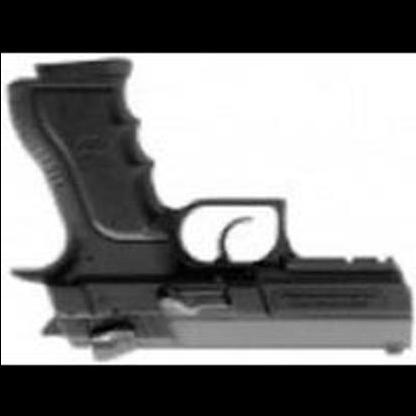weapon: (5, 55, 416, 367)
